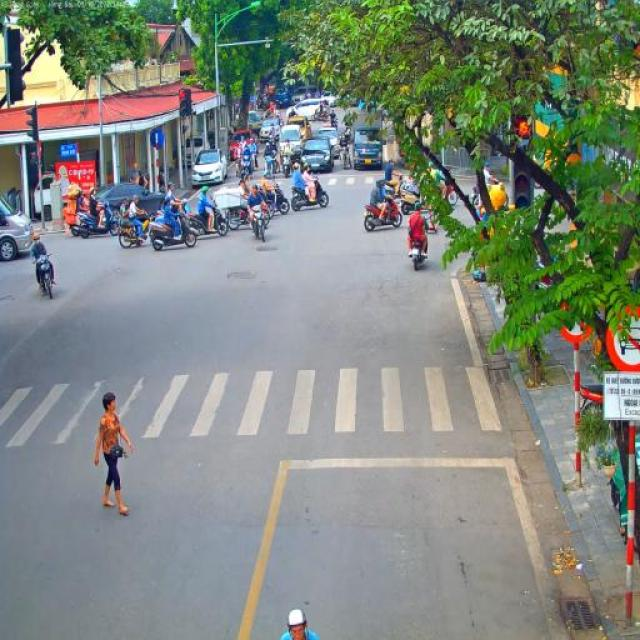bus: (0, 186, 35, 262)
car: (92, 181, 168, 215), (192, 148, 228, 186), (300, 137, 334, 174), (286, 98, 332, 121), (287, 116, 312, 148), (228, 128, 256, 156), (316, 126, 339, 160), (280, 124, 304, 155), (259, 118, 283, 144), (246, 109, 263, 137), (320, 87, 336, 107)
motorcycle: (70, 197, 120, 238), (222, 197, 274, 234), (152, 210, 198, 250), (178, 202, 230, 236), (118, 212, 160, 248), (364, 196, 404, 232), (290, 176, 329, 212), (401, 184, 437, 215), (35, 254, 56, 300), (266, 180, 290, 215), (247, 205, 268, 243), (436, 179, 459, 207), (385, 173, 409, 199), (410, 234, 425, 271), (471, 182, 488, 208), (242, 154, 254, 180), (282, 153, 294, 178), (340, 146, 352, 170), (265, 153, 276, 179), (232, 154, 244, 177), (249, 144, 260, 168), (328, 120, 338, 140), (336, 141, 344, 165), (311, 110, 327, 122)
truck: (352, 112, 386, 172), (271, 84, 291, 108), (291, 85, 310, 106)
